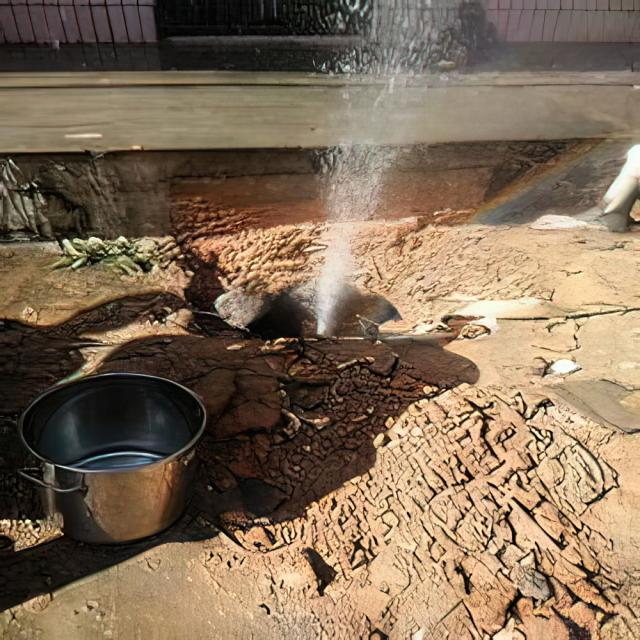leak: (316, 0, 469, 339)
